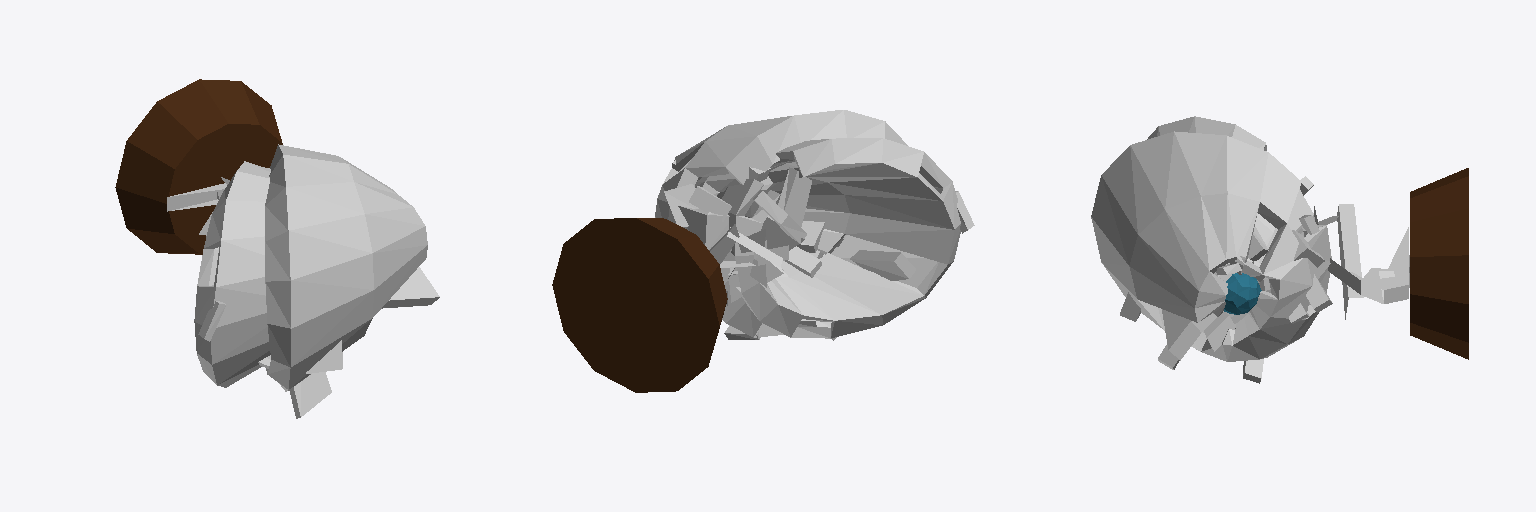
3 views of the same model, side by side, from view 1: azimuth 30°, elevation 25°; view 2: azimuth 150°, elevation 25°; view 3: azimuth 270°, elevation 25° (orthographic).
Visible parts, largest first — view 1: Cone_Cone_cover, Cylinder_Cylinder_Material.001, Cone.001_Cone.001_cover, Plane_Plane_Material.003; view 2: Cone.001_Cone.001_cover, Cylinder_Cylinder_Material.001, Cone_Cone_cover, Plane_Plane_Material.003; view 3: Cone_Cone_cover, Cylinder_Cylinder_Material.001, Plane_Plane_Material.003, Cone.001_Cone.001_cover, Icosphere_Icosphere_ball.
Boxes of the visible parts, x1=… form: Cone_Cone_cover: x1=265, y1=144, x2=439, y2=418; Cylinder_Cylinder_Material.001: x1=115, y1=79, x2=282, y2=254; Cone.001_Cone.001_cover: x1=194, y1=161, x2=270, y2=387; Plane_Plane_Material.003: x1=167, y1=177, x2=229, y2=235; Cone.001_Cone.001_cover: x1=717, y1=138, x2=974, y2=338; Cylinder_Cylinder_Material.001: x1=552, y1=218, x2=727, y2=392; Cone_Cone_cover: x1=655, y1=110, x2=907, y2=340; Plane_Plane_Material.003: x1=709, y1=208, x2=804, y2=305; Cone_Cone_cover: x1=1091, y1=131, x2=1332, y2=383; Cylinder_Cylinder_Material.001: x1=1410, y1=168, x2=1468, y2=359; Plane_Plane_Material.003: x1=1314, y1=204, x2=1409, y2=319; Cone.001_Cone.001_cover: x1=1147, y1=116, x2=1314, y2=304; Icosphere_Icosphere_ball: x1=1224, y1=273, x2=1261, y2=314.
Bounding box in the file's own units: 1.72 × 1.54 × 2.17.
Materials: 4 (1 with a texture image).